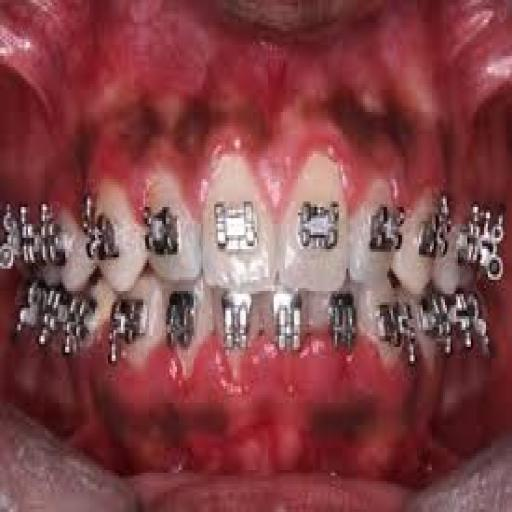correct_brace: (138, 168, 201, 287), (351, 171, 407, 291), (207, 196, 265, 259), (139, 201, 191, 263), (295, 194, 341, 256), (366, 204, 407, 262)
